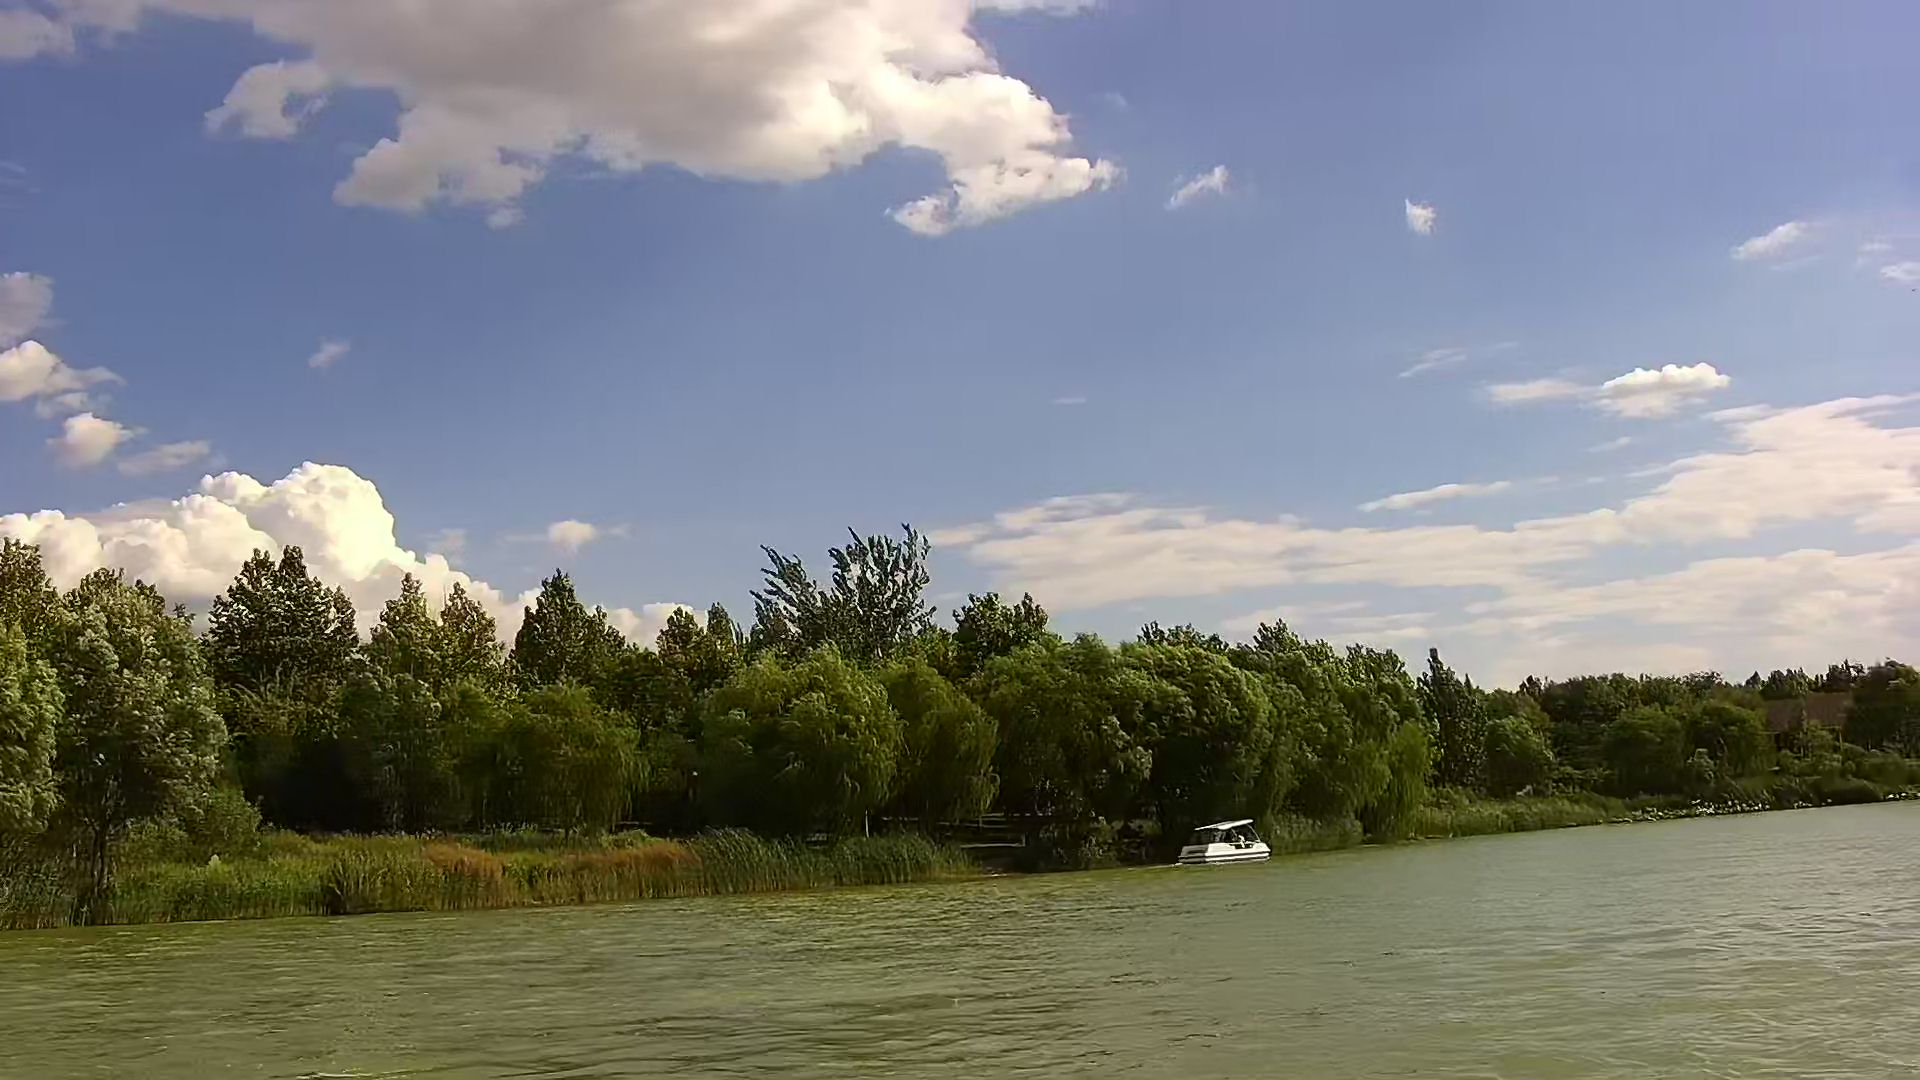boat: (1178, 820, 1273, 865)
